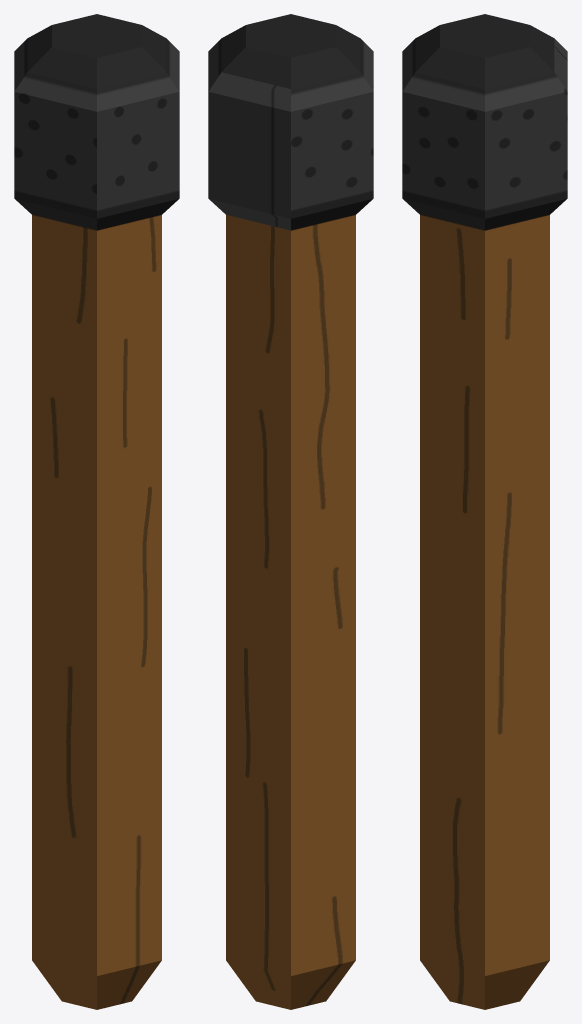
The model's file is TorchExp.fbx.
The picture shows the model from 3 angles, left to right: view 1: azimuth 30°, elevation 25°; view 2: azimuth 150°, elevation 25°; view 3: azimuth 270°, elevation 25°; orthographic projection.
Parts seen in each view (by area): view 1: pCylinder1; view 2: pCylinder1; view 3: pCylinder1.
Part boxes in pixels (bbox=[...]): pCylinder1: bbox=[14, 14, 179, 1009]; pCylinder1: bbox=[208, 14, 373, 1009]; pCylinder1: bbox=[402, 14, 567, 1009].
Bounding box in the file's own units: 2.54 × 14.06 × 2.2.
Materials: 1 (1 with a texture image).
